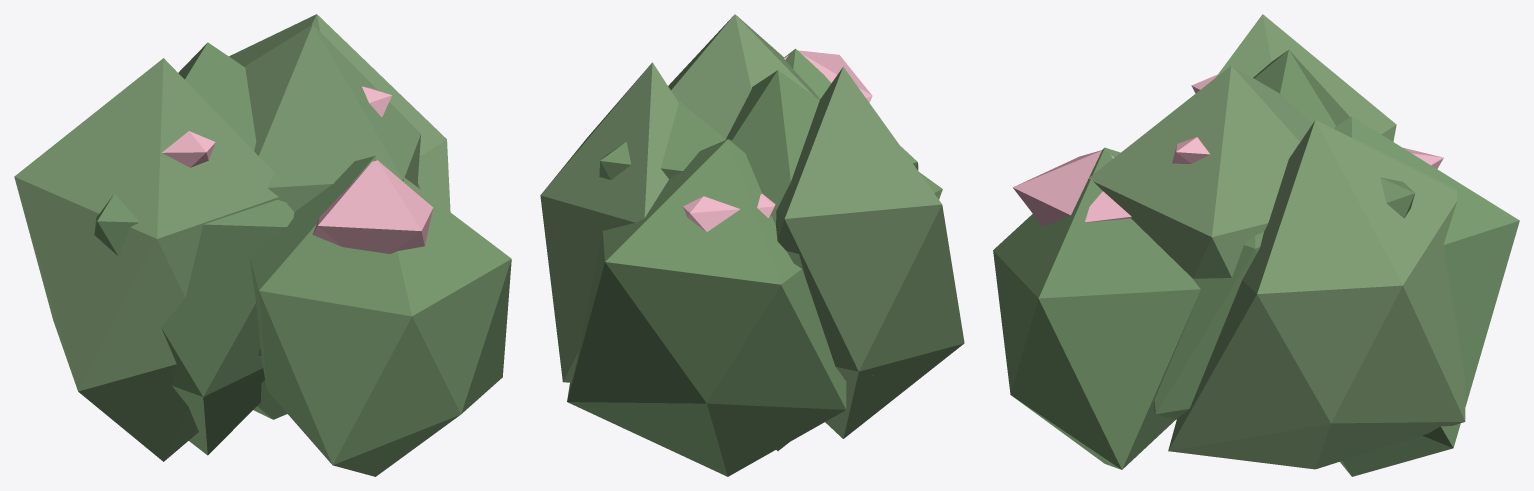
The model's file is Oleander.glb.
3 views of the same model, side by side, from view 1: azimuth 30°, elevation 25°; view 2: azimuth 150°, elevation 25°; view 3: azimuth 270°, elevation 25° (orthographic). The views are drawn at different scales.
Visible parts, largest first — view 1: Shrub clump.023, Shrub clump.017, Shrub clump.022, Shrub clump.016, Blossom.006, Shrub clump.019, Blossom.001, Shrub clump.021; view 2: Shrub clump.020, Shrub clump.017, Shrub clump.019, Shrub clump.022, Shrub clump.016, Shrub clump.018, Blossom.003, Shrub clump.023, Blossom.006; view 3: Shrub clump.019, Shrub clump.023, Shrub clump.016, Shrub clump.020, Shrub clump.018, Shrub clump.017, Blossom.006, Shrub clump.022, Blossom.
Part boxes in pixels (x1,y1,x2,y2): Shrub clump.023: [249, 155, 511, 476]; Shrub clump.017: [14, 58, 278, 461]; Shrub clump.022: [94, 42, 294, 455]; Shrub clump.016: [244, 24, 420, 357]; Blossom.006: [312, 160, 433, 253]; Shrub clump.019: [229, 14, 450, 211]; Blossom.001: [162, 131, 215, 167]; Shrub clump.021: [253, 380, 287, 419]; Shrub clump.020: [567, 139, 846, 476]; Shrub clump.017: [776, 66, 964, 438]; Shrub clump.019: [540, 62, 678, 382]; Shrub clump.022: [725, 70, 942, 450]; Shrub clump.016: [668, 14, 820, 138]; Shrub clump.018: [599, 102, 756, 180]; Blossom.003: [683, 193, 775, 231]; Shrub clump.023: [783, 48, 918, 170]; Blossom.006: [784, 50, 872, 102]; Shrub clump.019: [1168, 120, 1465, 469]; Shrub clump.023: [993, 147, 1200, 469]; Shrub clump.016: [1088, 65, 1311, 278]; Shrub clump.020: [1334, 116, 1519, 476]; Shrub clump.018: [1153, 177, 1414, 419]; Shrub clump.017: [1215, 14, 1396, 141]; Blossom.006: [1013, 150, 1131, 226]; Shrub clump.022: [1253, 50, 1349, 128]; Blossom: [1172, 137, 1210, 163].
Bounding box in the file's own units: 1.83 × 1.9 × 2.07.
